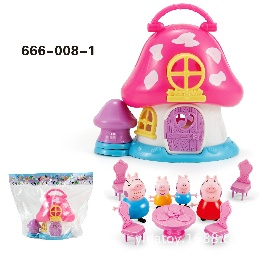Peppa: (198, 177, 223, 223)
